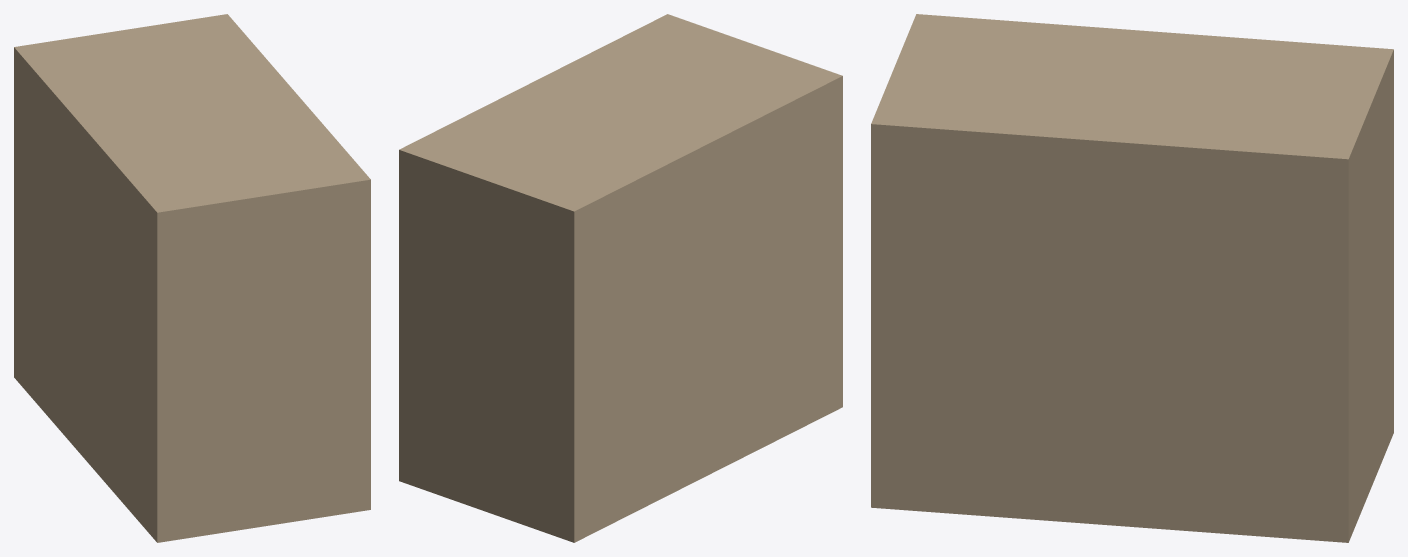
File: bld_99020520.dae
3 views of the same model, side by side, from view 1: azimuth 30°, elevation 25°; view 2: azimuth 150°, elevation 25°; view 3: azimuth 270°, elevation 25° (orthographic). The views are drawn at different scales.
Parts seen in each view (by area): view 1: bld_99020520; view 2: bld_99020520; view 3: bld_99020520.
Part boxes in pixels (x1,y1,x2,y2): bld_99020520: (14, 14, 370, 542); bld_99020520: (399, 14, 842, 542); bld_99020520: (871, 14, 1393, 542).
Size of the model in its own units: 6.5 by 9.88 by 8.
